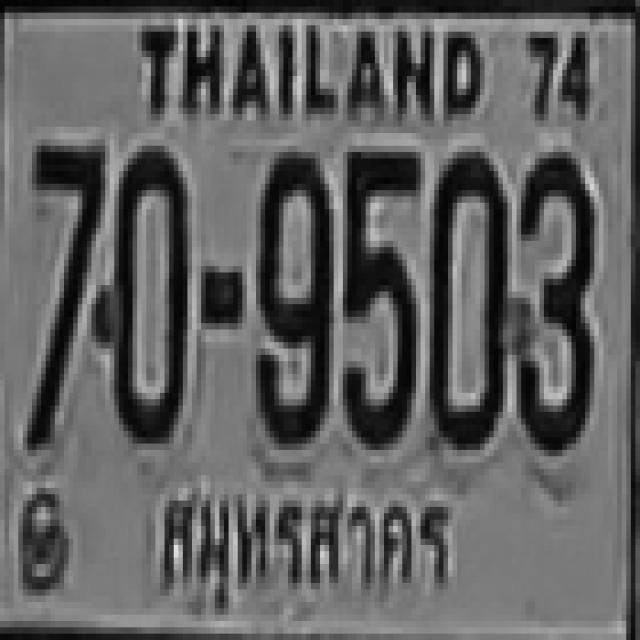0: (425, 149, 503, 447), (108, 140, 185, 438)
3: (512, 149, 590, 447)
5: (341, 146, 414, 444)
7: (23, 140, 100, 443), (30, 139, 103, 431), (30, 143, 103, 364), (32, 142, 101, 332)
9: (252, 149, 329, 440)
SamutSakhon: (143, 464, 480, 629)
